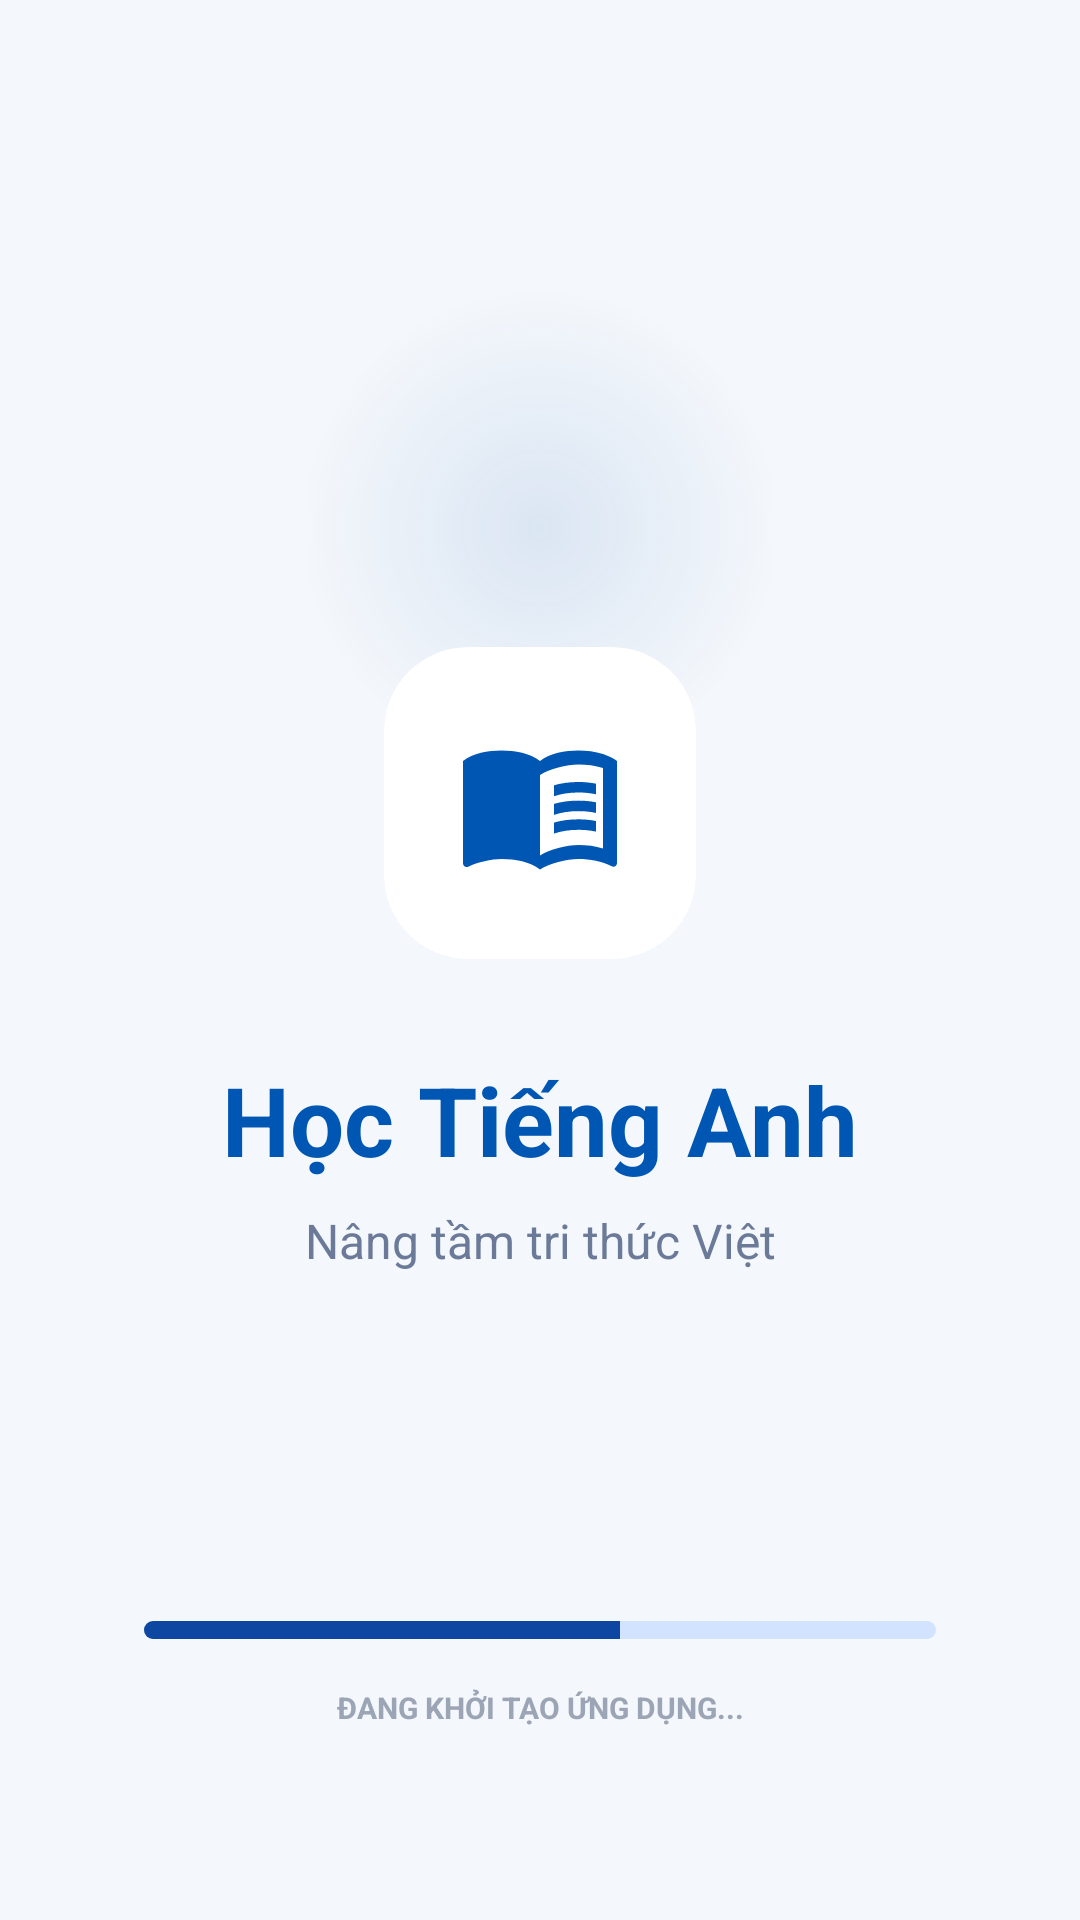

Icons on this 1080px x 1920px Android screen, each with the point to tap as point (x, y):
bieu tuong quyen sach: point (540, 810)
